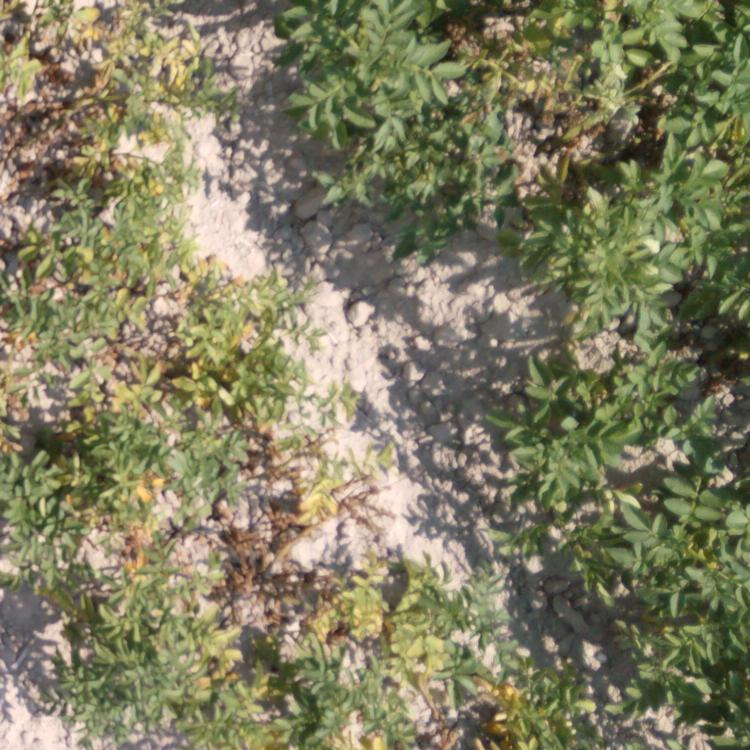stressed: (285, 1, 749, 203), (543, 489, 747, 735), (35, 567, 319, 740), (1, 310, 166, 569), (178, 252, 316, 558), (340, 550, 532, 750), (495, 333, 736, 487), (1, 121, 169, 308), (515, 206, 744, 333), (8, 1, 224, 127), (320, 396, 378, 537)
